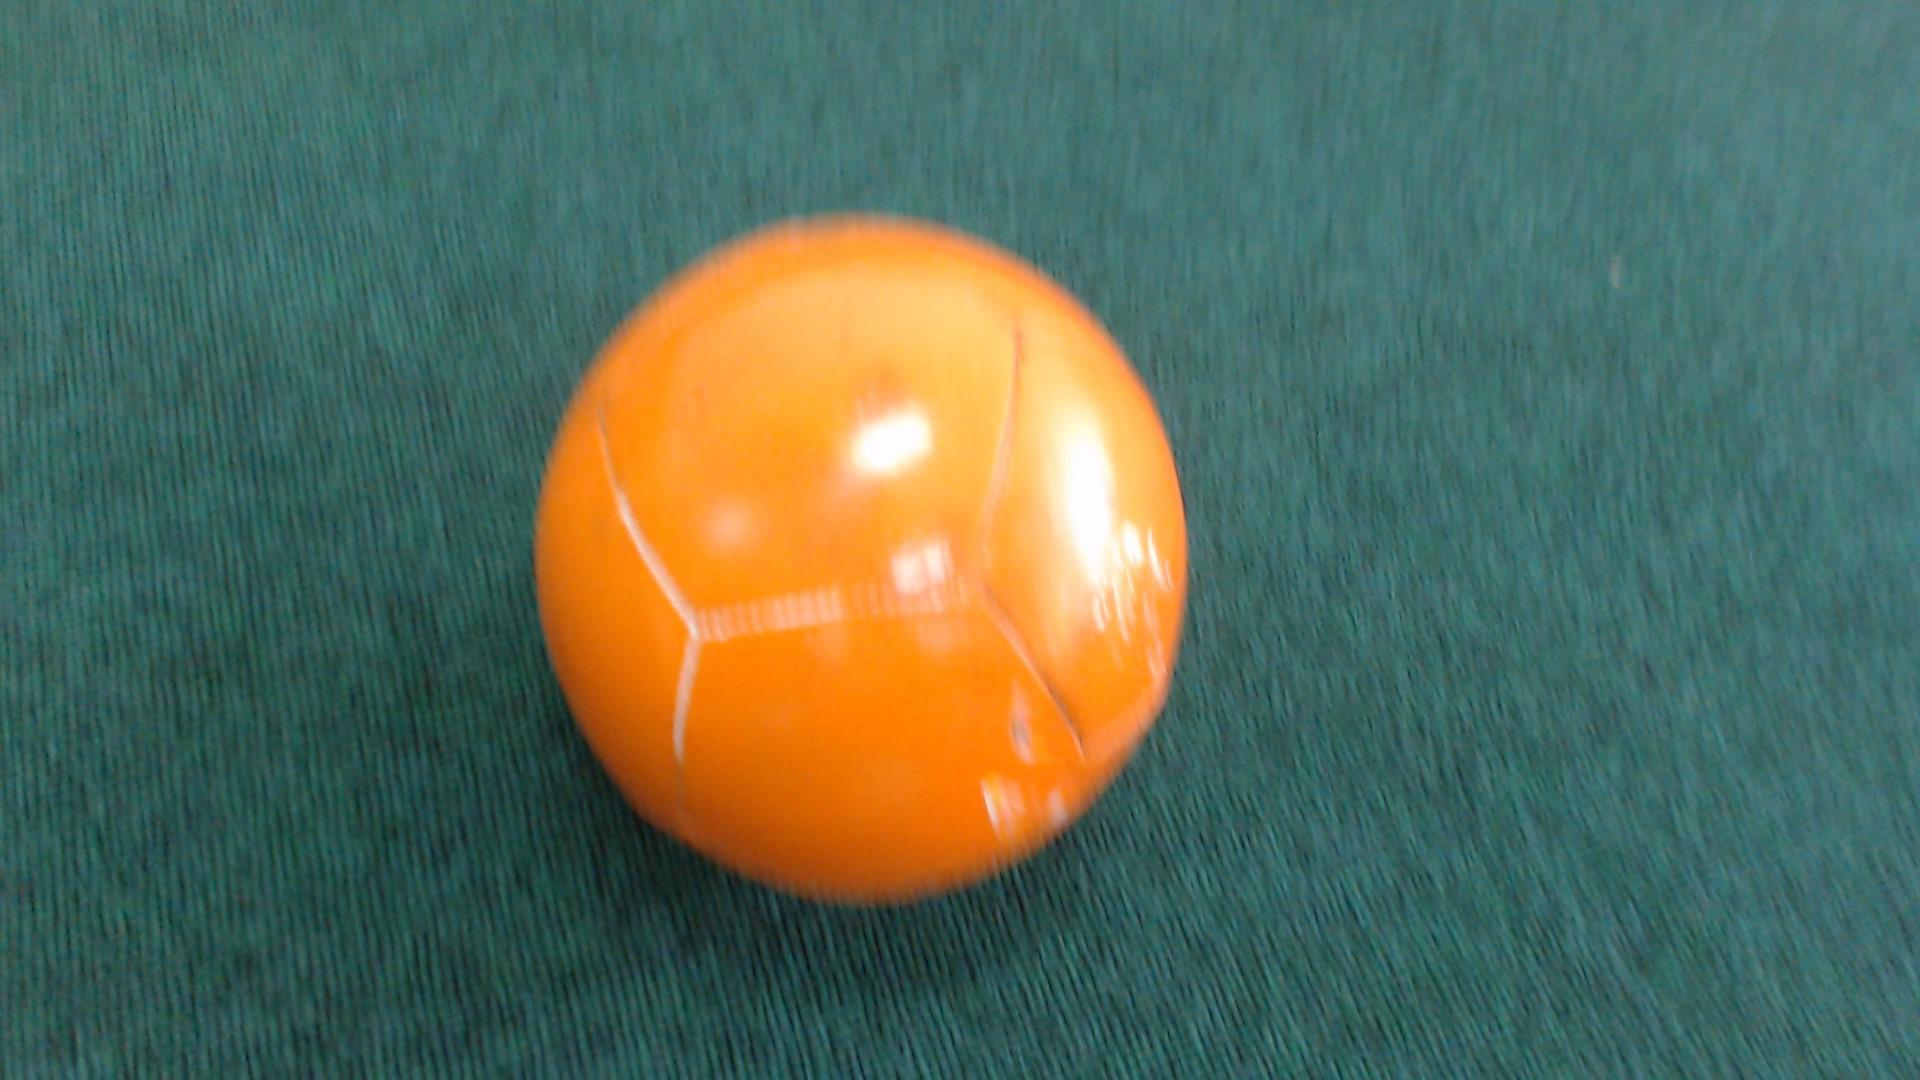bola: (518, 202, 1216, 939)
